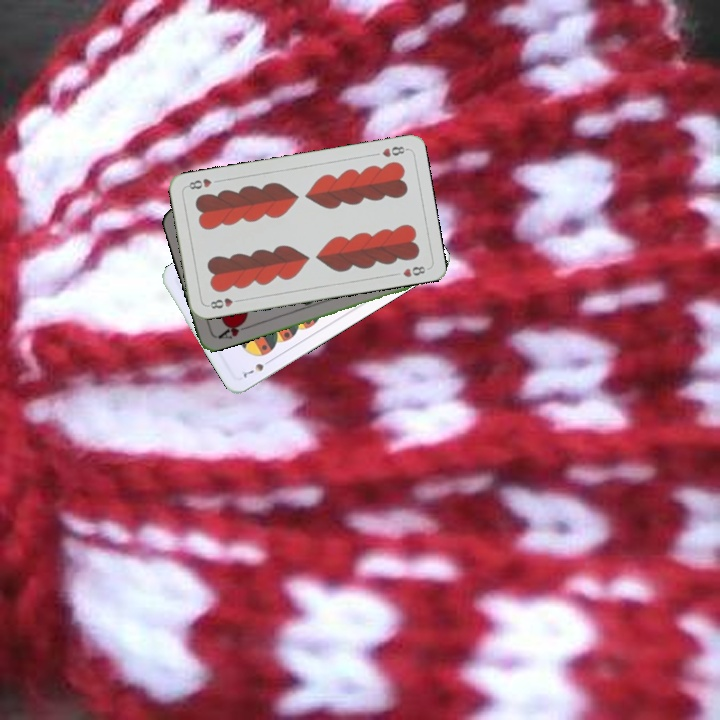H8: (203, 294, 244, 311), (378, 142, 409, 160)
HA: (214, 316, 252, 342)
S7: (239, 355, 274, 381)
